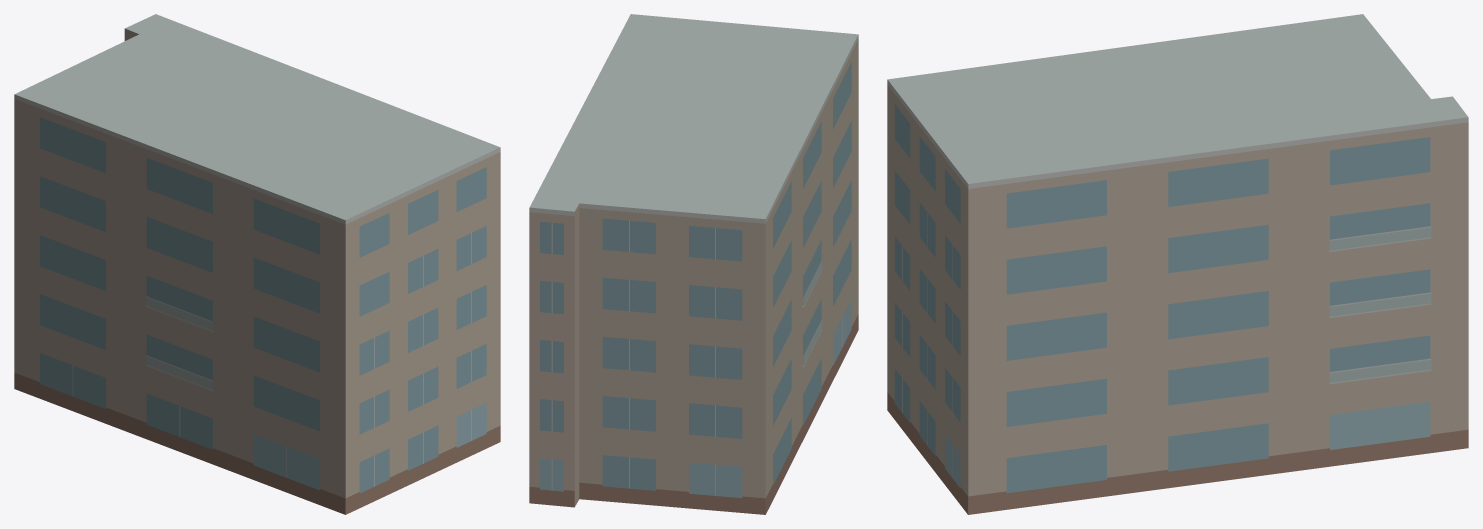
File: survey-upis-33040765.glb
3 views of the same model, side by side, from view 1: azimuth 30°, elevation 25°; view 2: azimuth 150°, elevation 25°; view 3: azimuth 270°, elevation 25° (orthographic). The views are drawn at different scales.
Parts seen in each view (by area): view 1: survey-upis-33040765.tmp; view 2: survey-upis-33040765.tmp; view 3: survey-upis-33040765.tmp.
Boxes of the visible parts, left/top/right/bottom form: survey-upis-33040765.tmp: left=14, top=14, right=500, bottom=514; survey-upis-33040765.tmp: left=529, top=14, right=858, bottom=514; survey-upis-33040765.tmp: left=887, top=14, right=1468, bottom=514.
Bounding box in the file's own units: 17.7 × 16.05 × 25.56.
